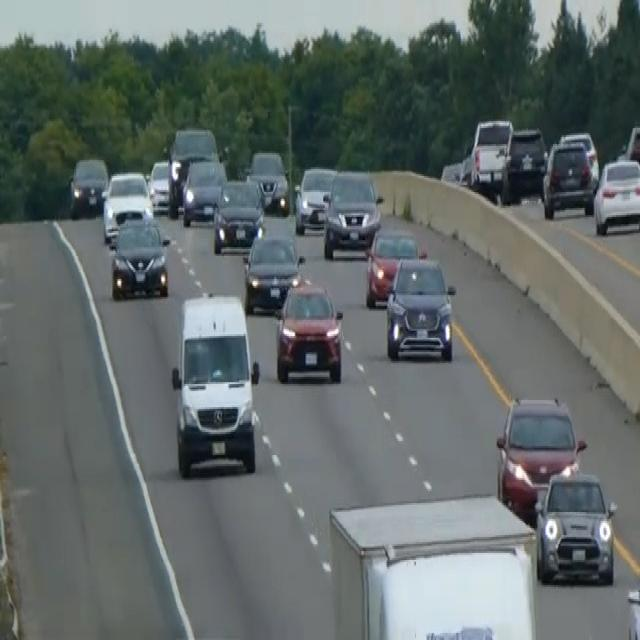car: (495, 393, 586, 517), (534, 467, 617, 585), (385, 252, 456, 361), (274, 276, 344, 384), (322, 167, 383, 258), (108, 215, 170, 301), (242, 229, 304, 313), (364, 225, 423, 308), (541, 135, 595, 219), (167, 125, 219, 212), (212, 176, 265, 252), (101, 169, 153, 242), (593, 154, 639, 234), (469, 116, 513, 192), (181, 156, 227, 226), (504, 124, 547, 196), (293, 163, 336, 233), (246, 148, 290, 215), (68, 155, 108, 217), (558, 128, 599, 188), (147, 156, 173, 212), (618, 122, 639, 178)
minibus: (169, 290, 261, 478)
